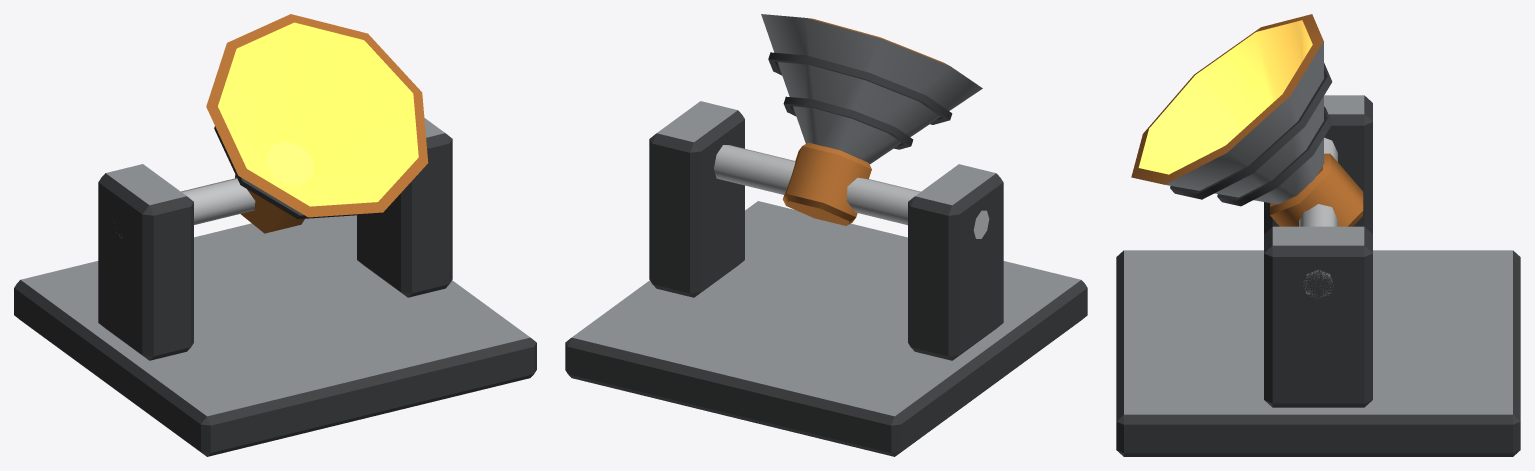
The model's file is R4X_DeployableAmplifier_LOD1.fbx.
The picture shows the model from 3 angles, left to right: view 1: azimuth 30°, elevation 25°; view 2: azimuth 150°, elevation 25°; view 3: azimuth 270°, elevation 25°; orthographic projection. The views are drawn at different scales.
Parts seen in each view (by area): view 1: R4X_DeployableAmplifier_LOD1; view 2: R4X_DeployableAmplifier_LOD1; view 3: R4X_DeployableAmplifier_LOD1.
Part boxes in pixels (box(x1,y1,x2,y2)): R4X_DeployableAmplifier_LOD1: box(14, 14, 536, 456); R4X_DeployableAmplifier_LOD1: box(565, 14, 1087, 456); R4X_DeployableAmplifier_LOD1: box(1116, 14, 1520, 456).
Bounding box in the file's own units: 0.52 × 0.4865 × 0.52.
